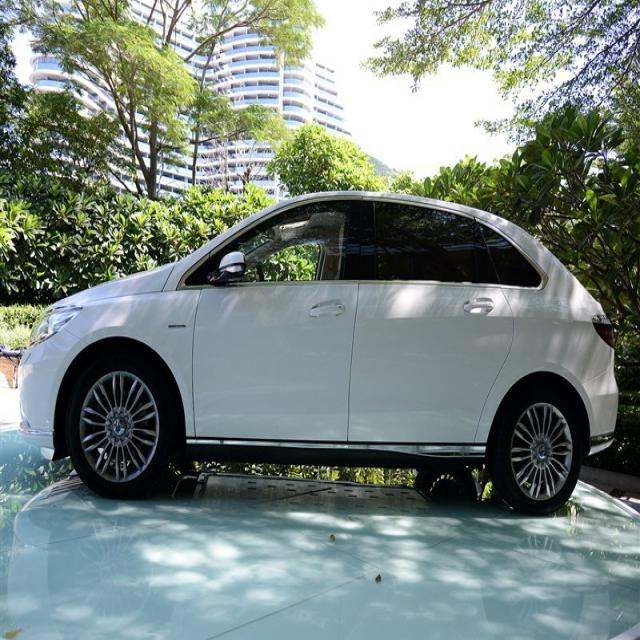back_left_side_light: (586, 304, 618, 353)
door: (353, 197, 519, 453)
front_bumper: (16, 327, 87, 455)
front_left_side_door: (190, 188, 368, 455)
front_left_side_light: (27, 299, 82, 350)
front_left_side_mirror: (215, 248, 248, 284)
rear_bumper: (580, 351, 622, 452)
wheel: (72, 354, 172, 498), (497, 386, 581, 514)
